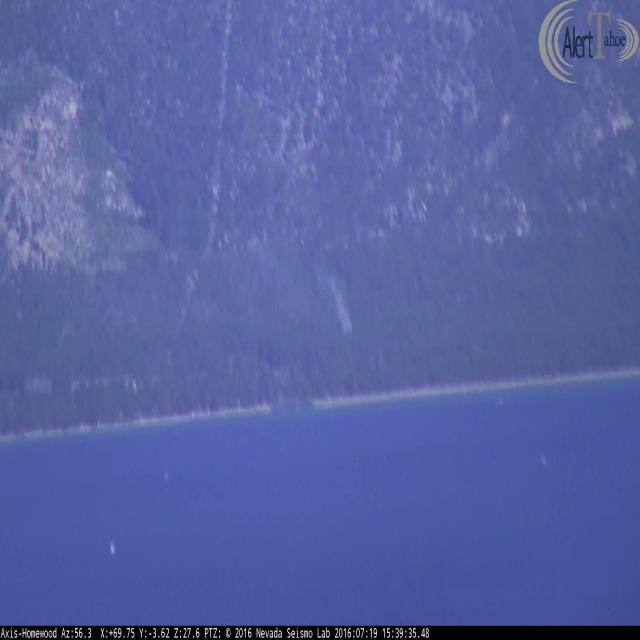smoke: (320, 260, 357, 334)
